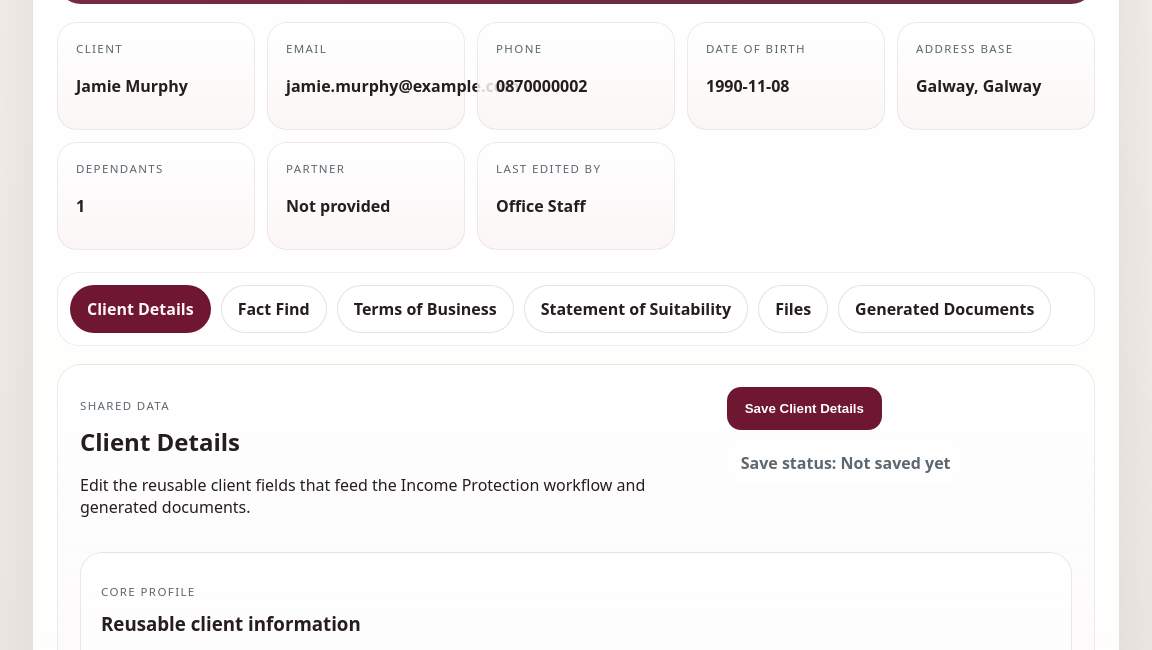
Test: App routes › renders the first Fact Find draft fields with shared client values
(page scrolled)
What coordinates should you click on to do the following:
click the tab "Fact Find"
I would click on:
 (274, 309)
Its box is [221,285,327,333].
(page scrolled)
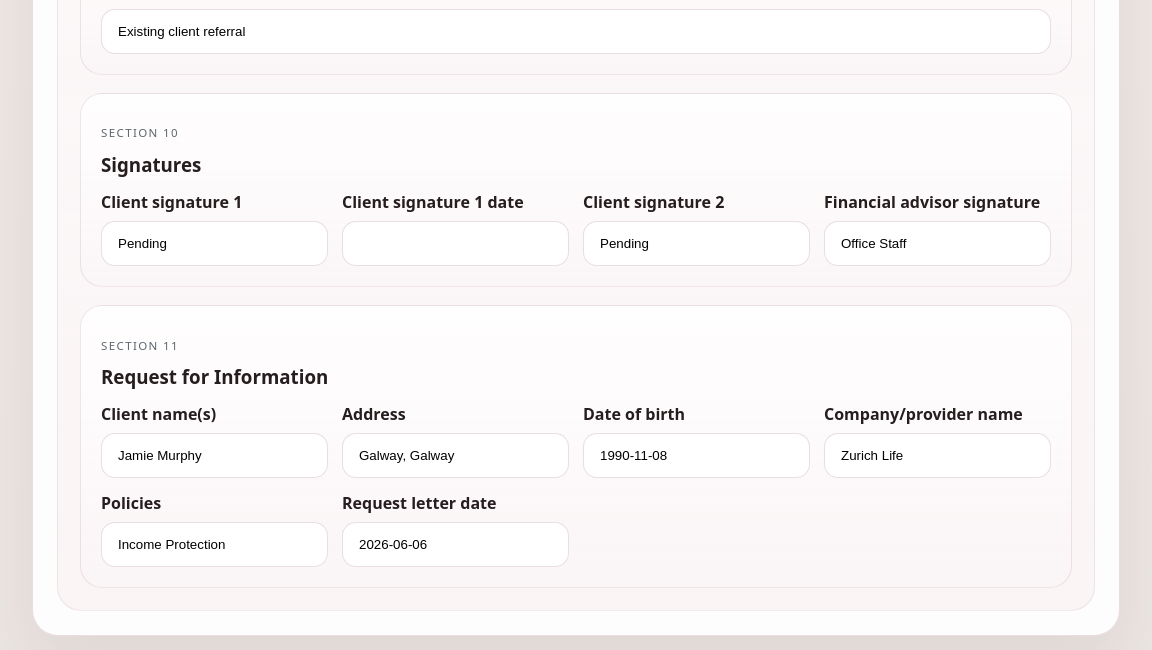
Expected: the heading "Request for Information" is shown, [101,364,328,389]
